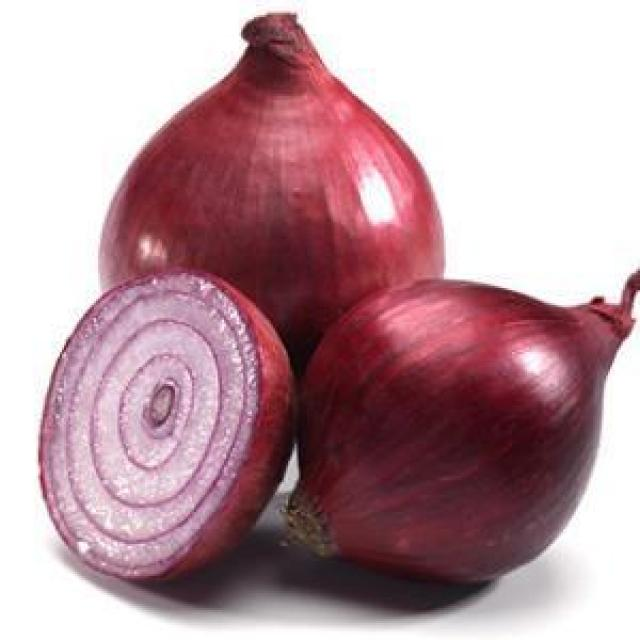Onion: (98, 13, 444, 390), (277, 268, 640, 586), (38, 269, 296, 582)
